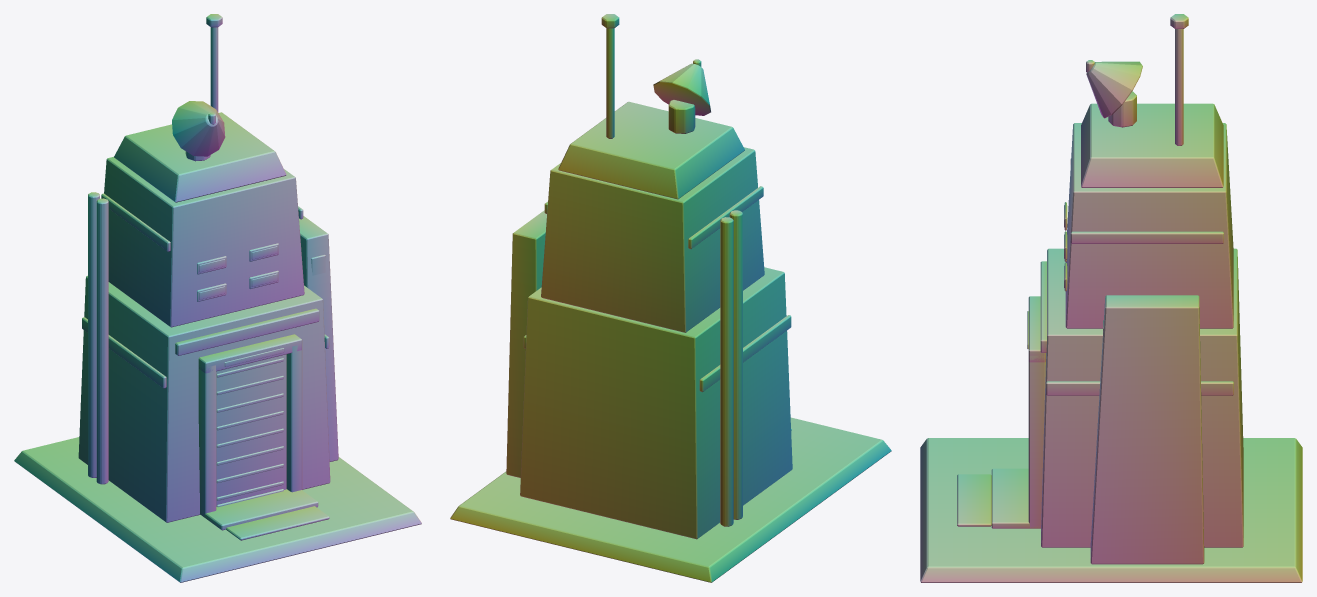
Rendered from factory_ranger_rig.glb.
The picture shows the model from 3 angles, left to right: view 1: azimuth 30°, elevation 25°; view 2: azimuth 150°, elevation 25°; view 3: azimuth 270°, elevation 25°; orthographic projection. The views are drawn at different scales.
Visible parts, largest first — view 1: body, door, spin_dish; view 2: body, spin_dish; view 3: body, spin_dish.
Part boxes in pixels (bbox=[...]): body: bbox=[14, 14, 421, 582]; door: bbox=[216, 354, 286, 506]; spin_dish: bbox=[172, 101, 225, 161]; body: bbox=[450, 14, 891, 582]; spin_dish: bbox=[653, 59, 710, 133]; body: bbox=[920, 14, 1302, 582]; spin_dish: bbox=[1086, 60, 1142, 127].
Size of the model in its own units: 12.96 by 22.9 by 15.46.
